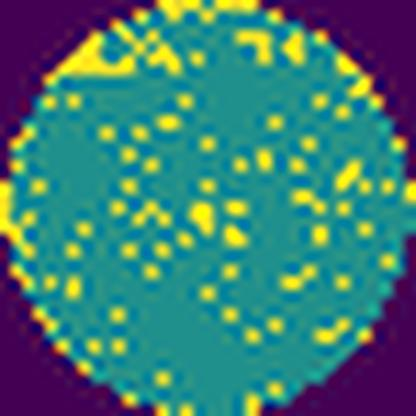Edge-Loc: (109, 6, 186, 78), (37, 33, 141, 82), (152, 0, 264, 24)
